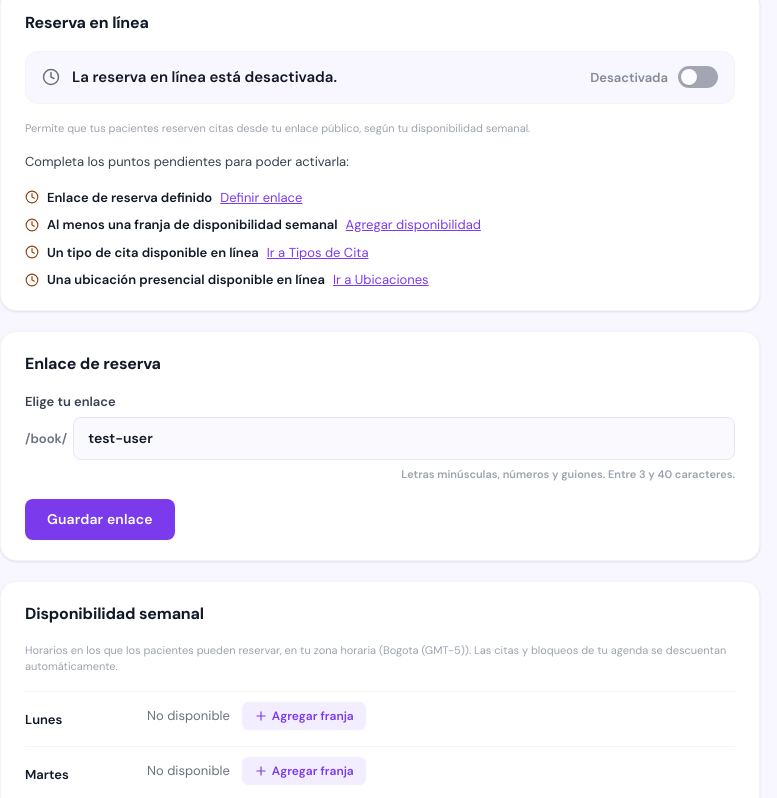
Test case: OnlineBookingTab: link › validates the slug before saving
The image size is (777, 798).
Replace the text in the field with test id "online-booking-slug-input" with "dra maría": point(404, 438) [73,417,735,460]
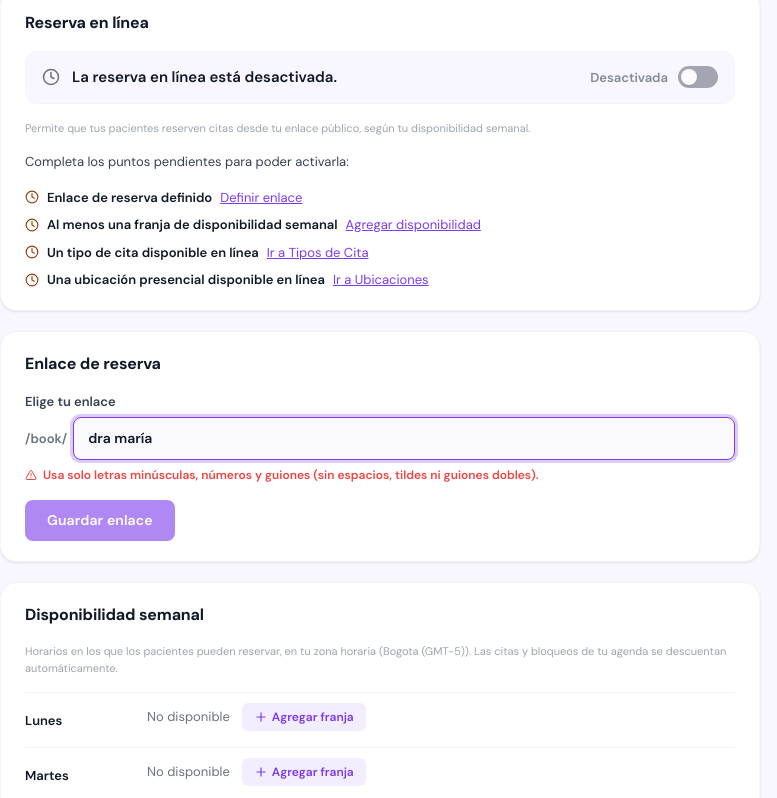
Now the button with test id "online-booking-slug-save" is disabled, box [25,500,175,541]
Now the message shows "letras minúsculas", box [43,467,538,483]
